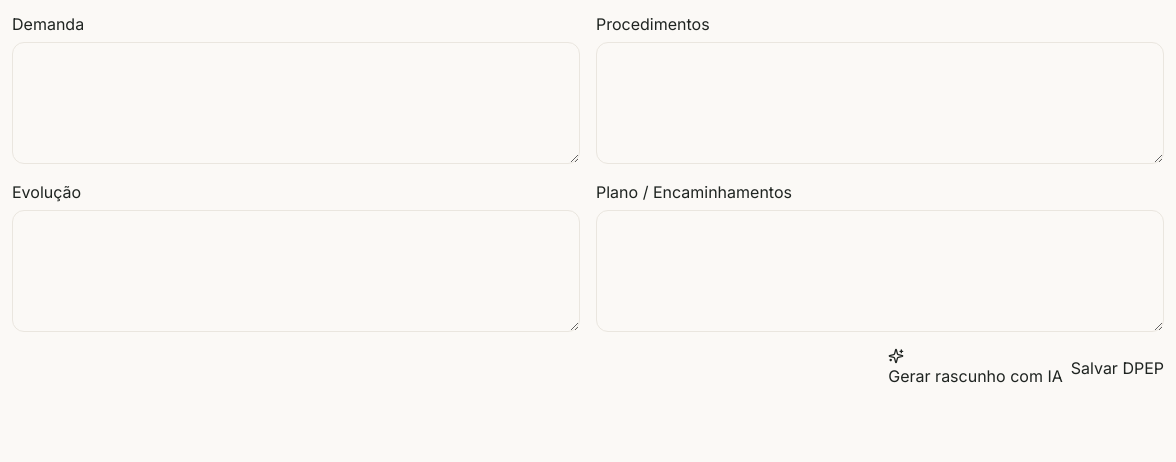
Test: DpepForm — geração local de rascunho › preenche os quatro campos com DPEP válido e não salva sozinho
Click the button "Gerar rascunho com IA". click: (976, 368)
box: [888,348,1063,388]
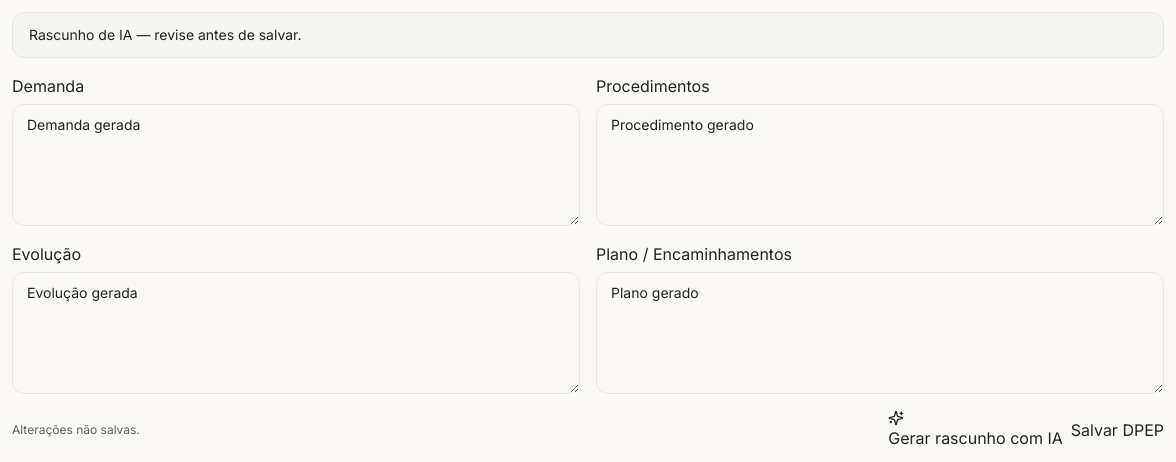
expect the text box labelled "Demanda" holds "Demanda gerada": met, box [12,104,580,226]
expect the text box labelled "Procedimentos" holds "Procedimento gerado": met, box [596,104,1164,226]
expect the text box labelled "Evolução" holds "Evolução gerada": met, box [12,272,580,394]
